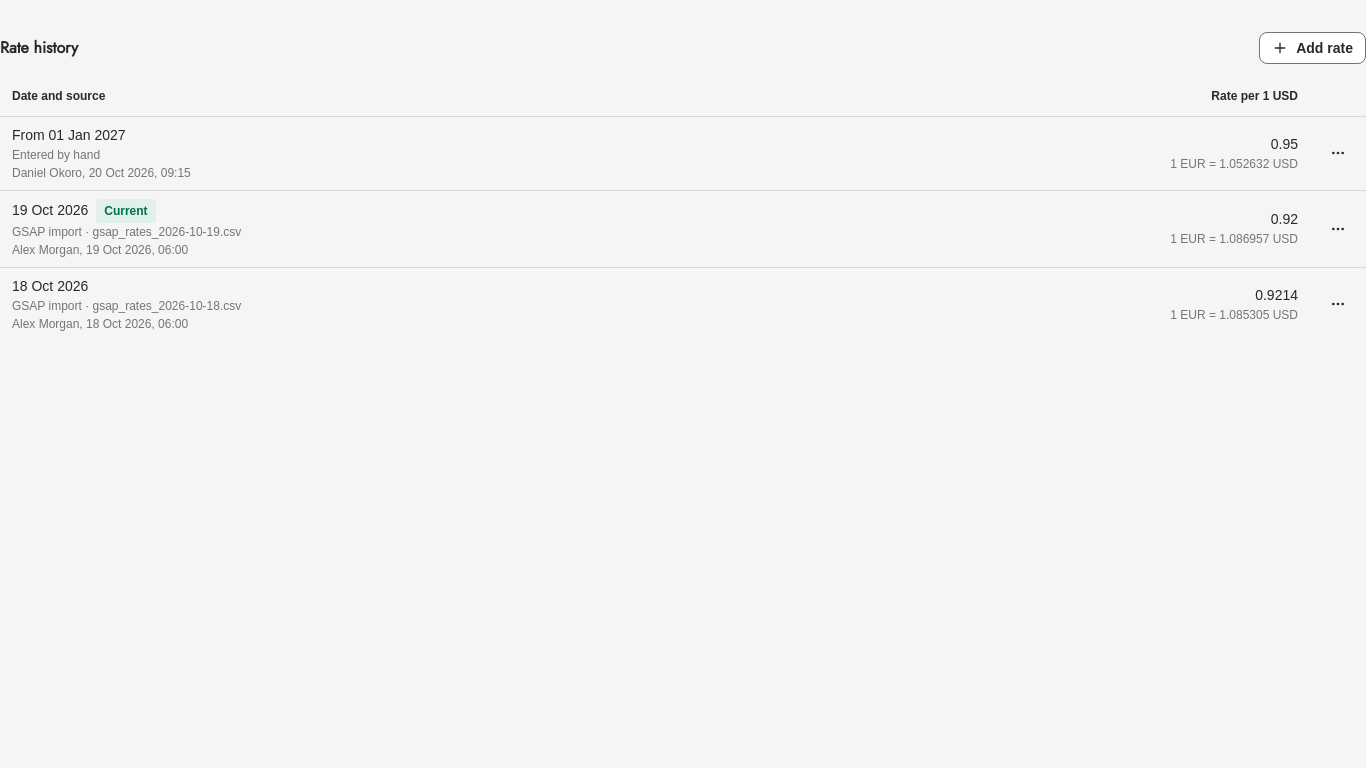
RateDialog: Add rate (016 FR-003, FR-005) › says from when a future rate counts
The image size is (1366, 768).
Expected: the table is shown, [0, 76, 1365, 340]
Click the button "Add rate": click(1313, 48) [1259, 32, 1365, 64]
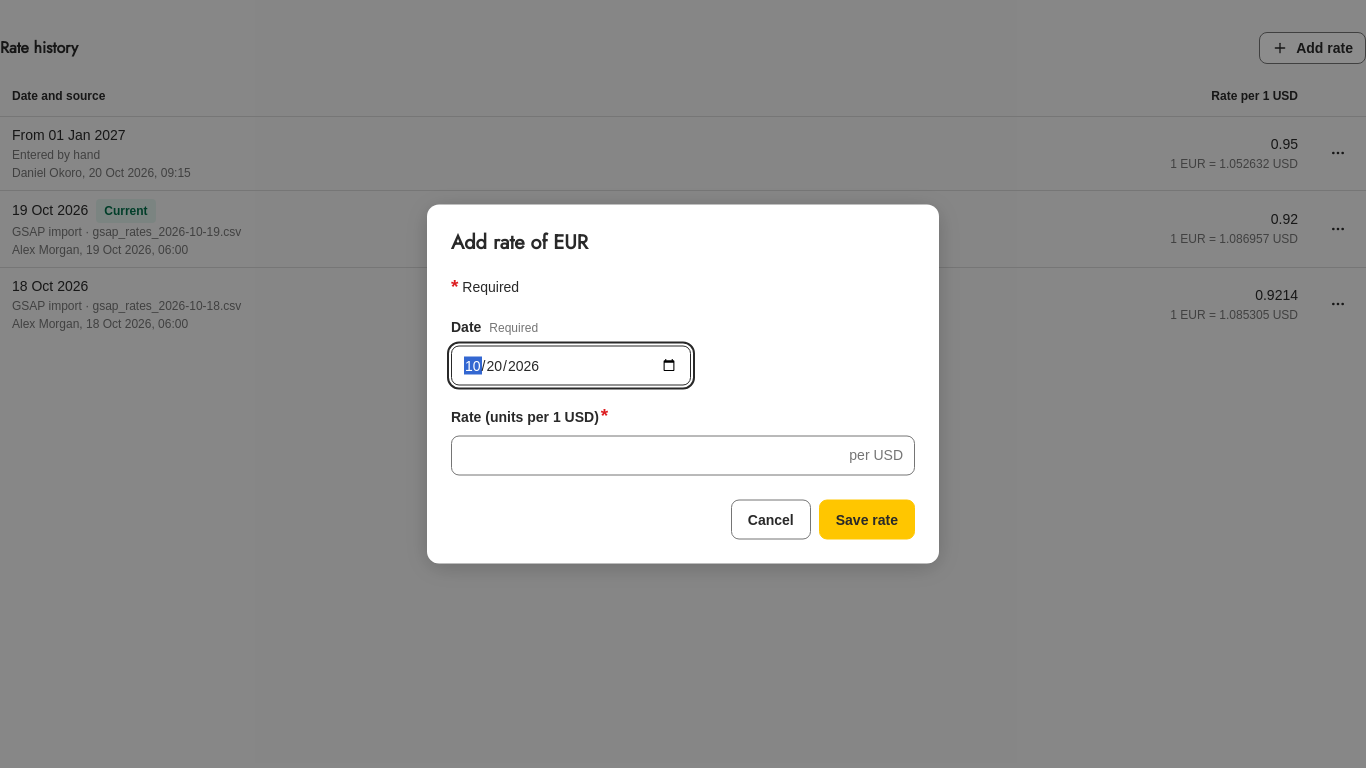
In the date field labelled "Date": (571, 366) [451, 346, 691, 386], type "2099-01-01"
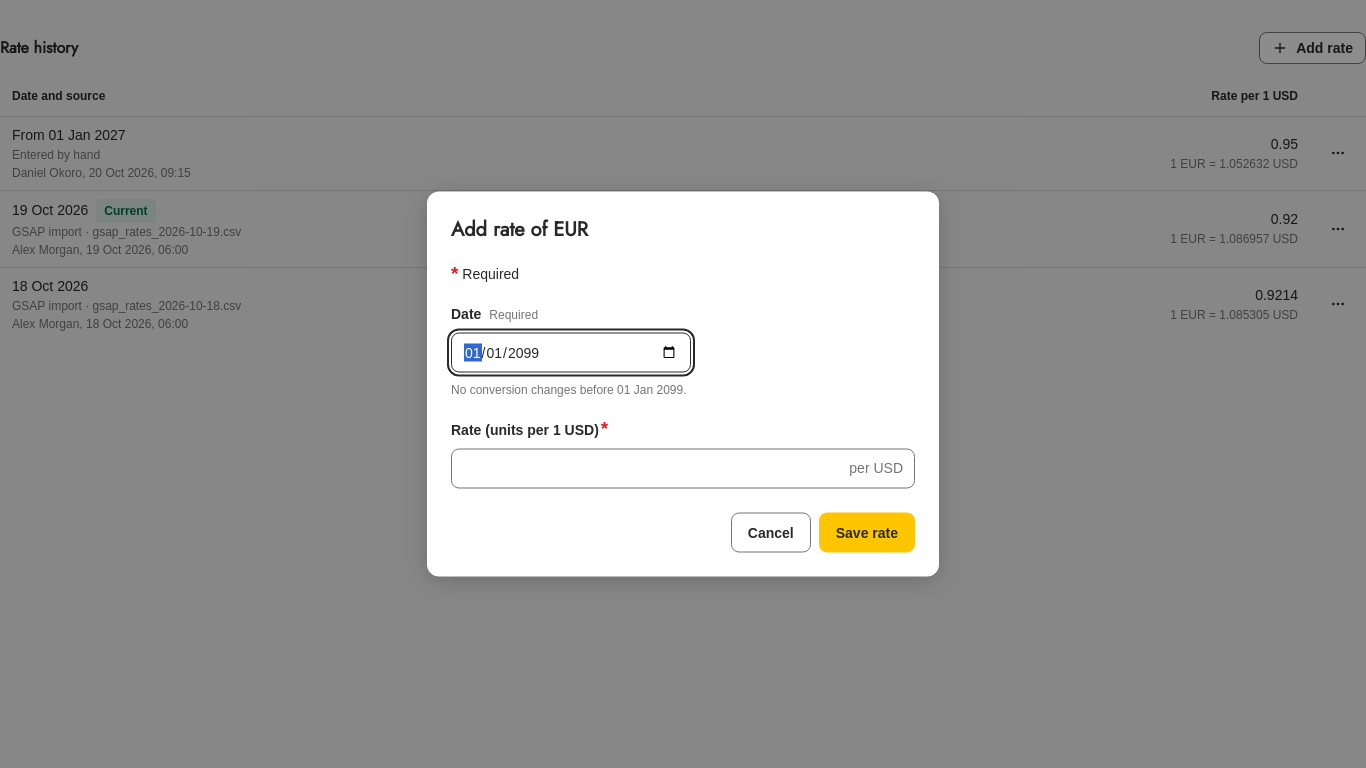
Result: the dialog "Add rate of EUR" shows "No conversion changes before 01 Jan 2099." at [451, 382, 686, 396]
